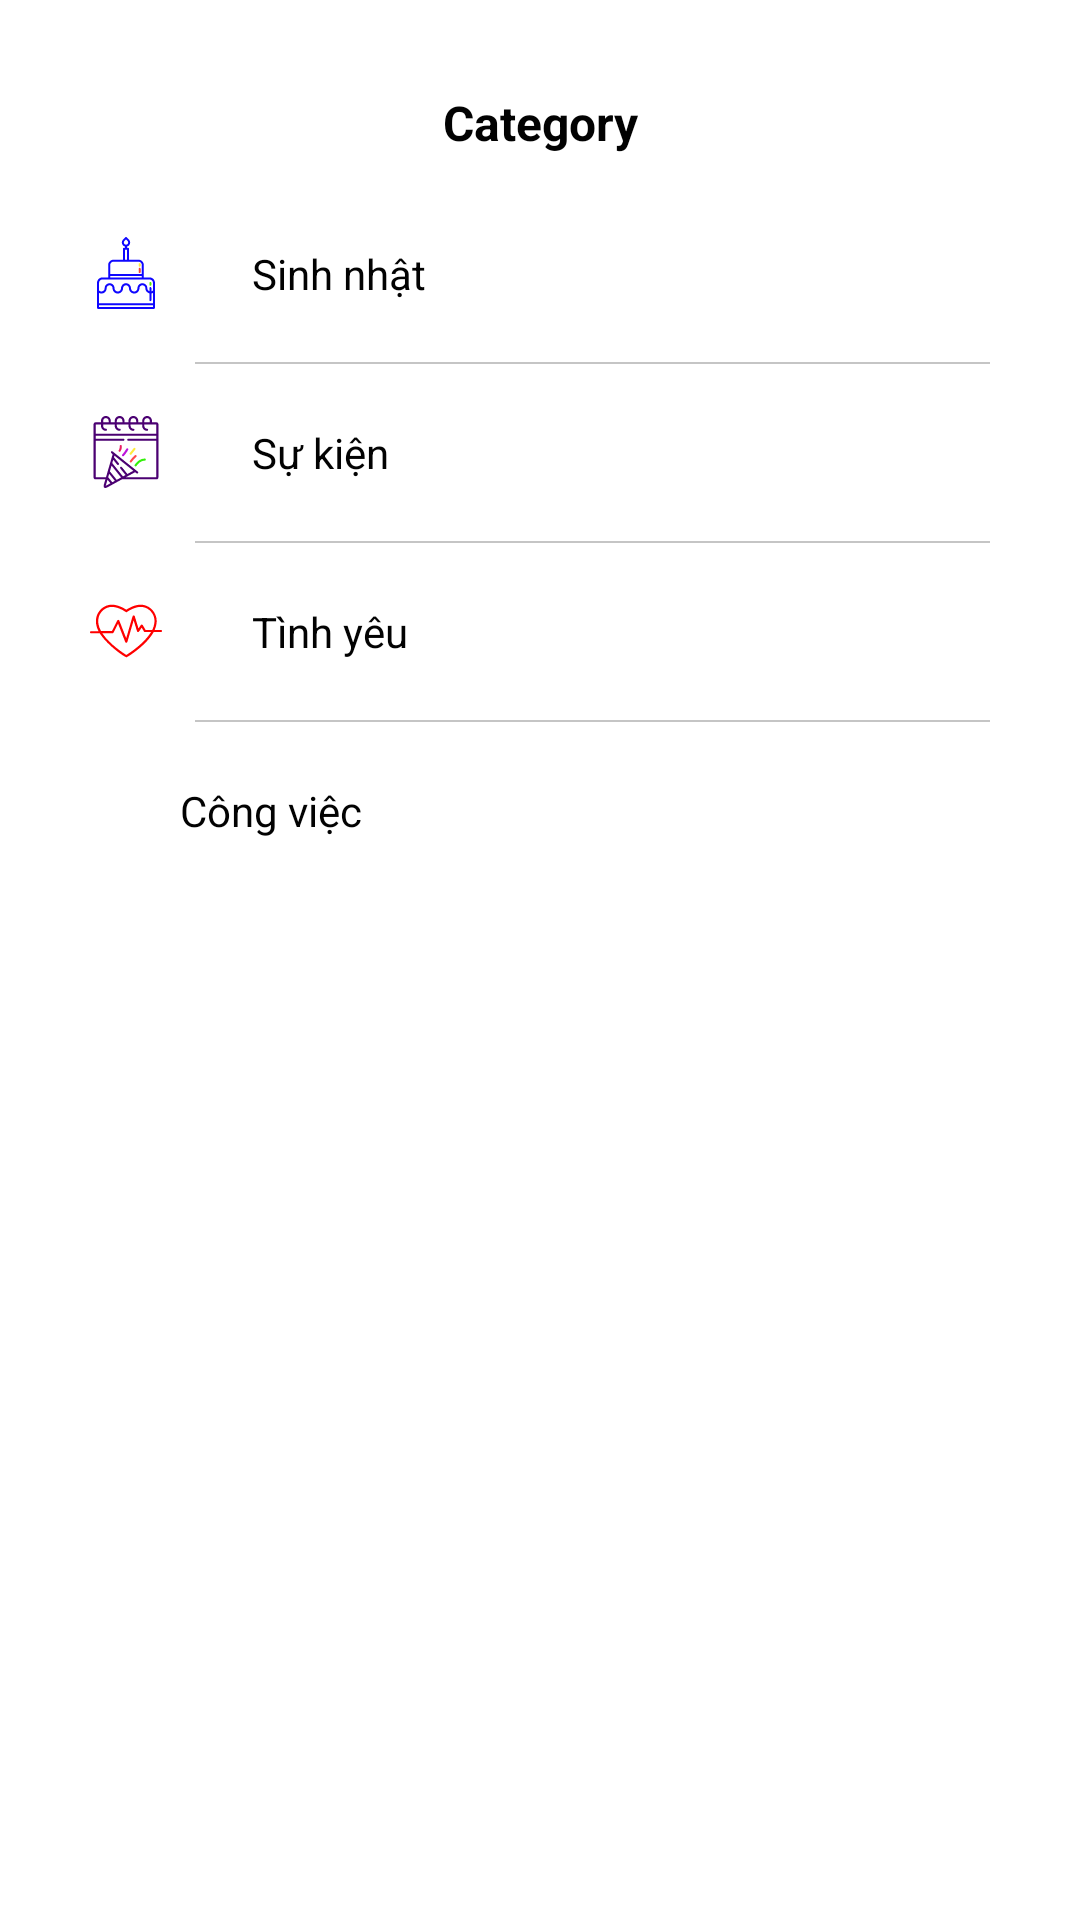

Named icons in this screenshot (1080px x 1920px) and their centers, point (x, y):
calendar: point (126, 452)
heart: point (126, 631)
